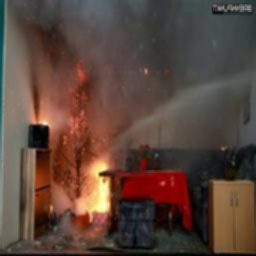fire: (48, 144, 123, 226)
